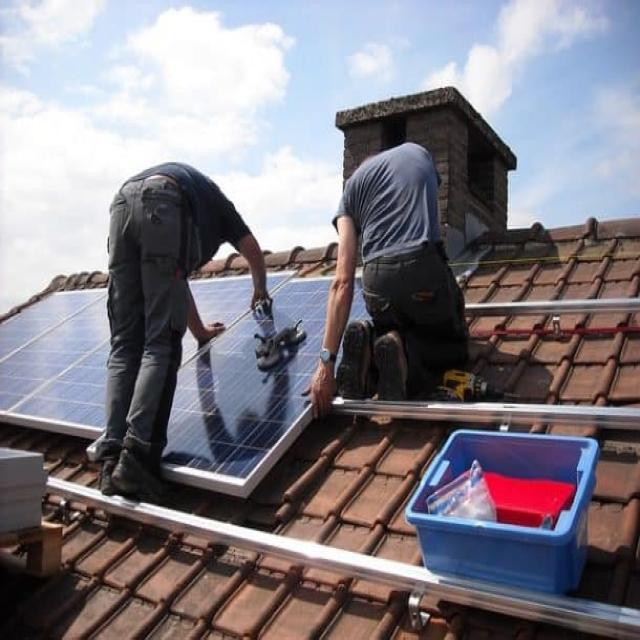clean-solar-panel: (162, 273, 330, 496), (1, 290, 110, 440)
